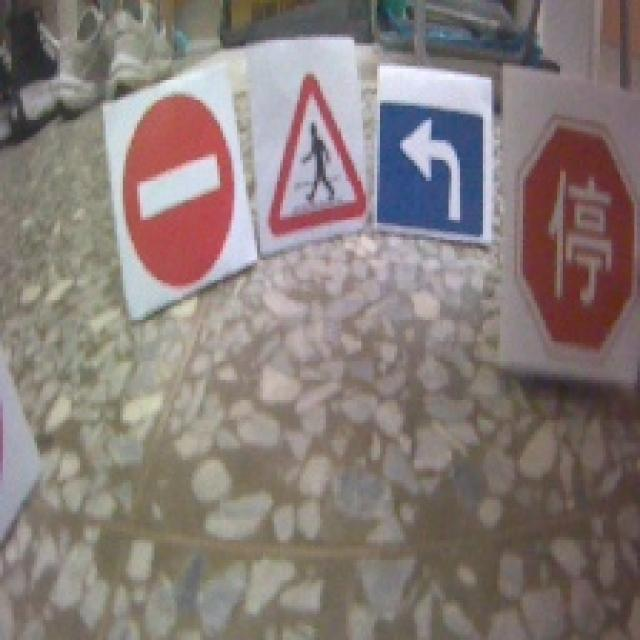DoNotEnterSign: (120, 93, 237, 284)
